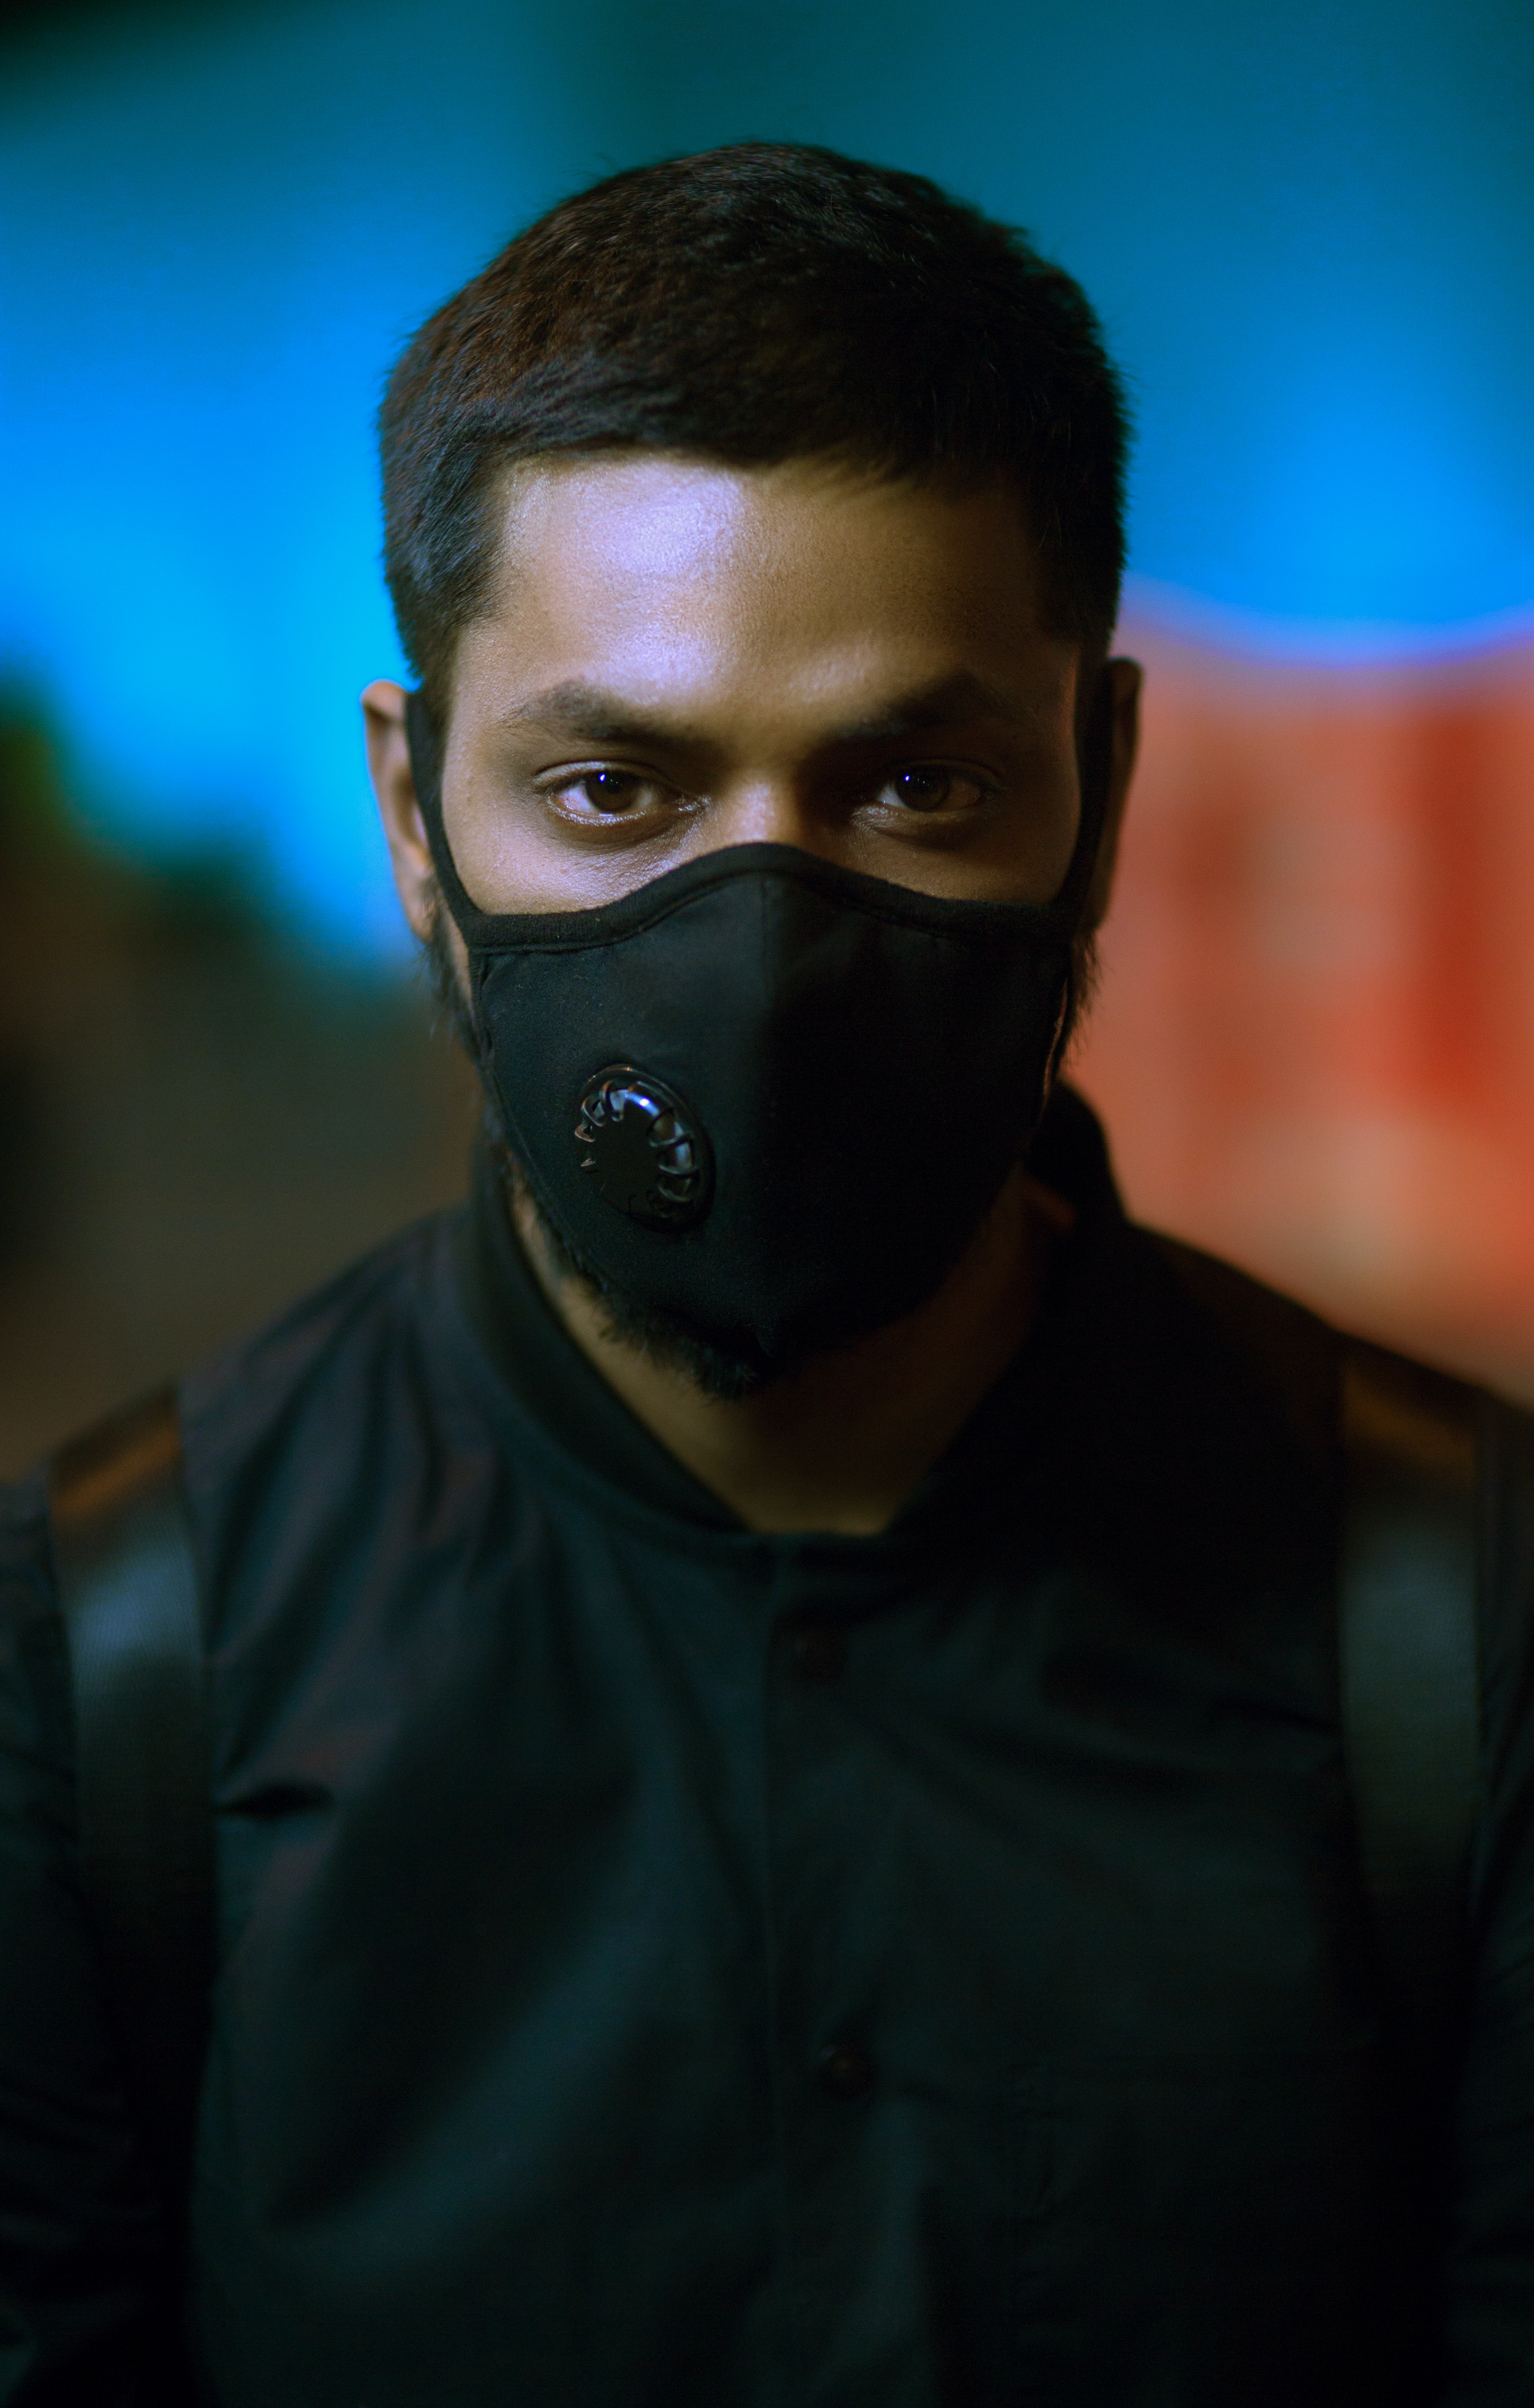mask: (416, 827, 1151, 1410)
person: (26, 123, 1506, 2408)
